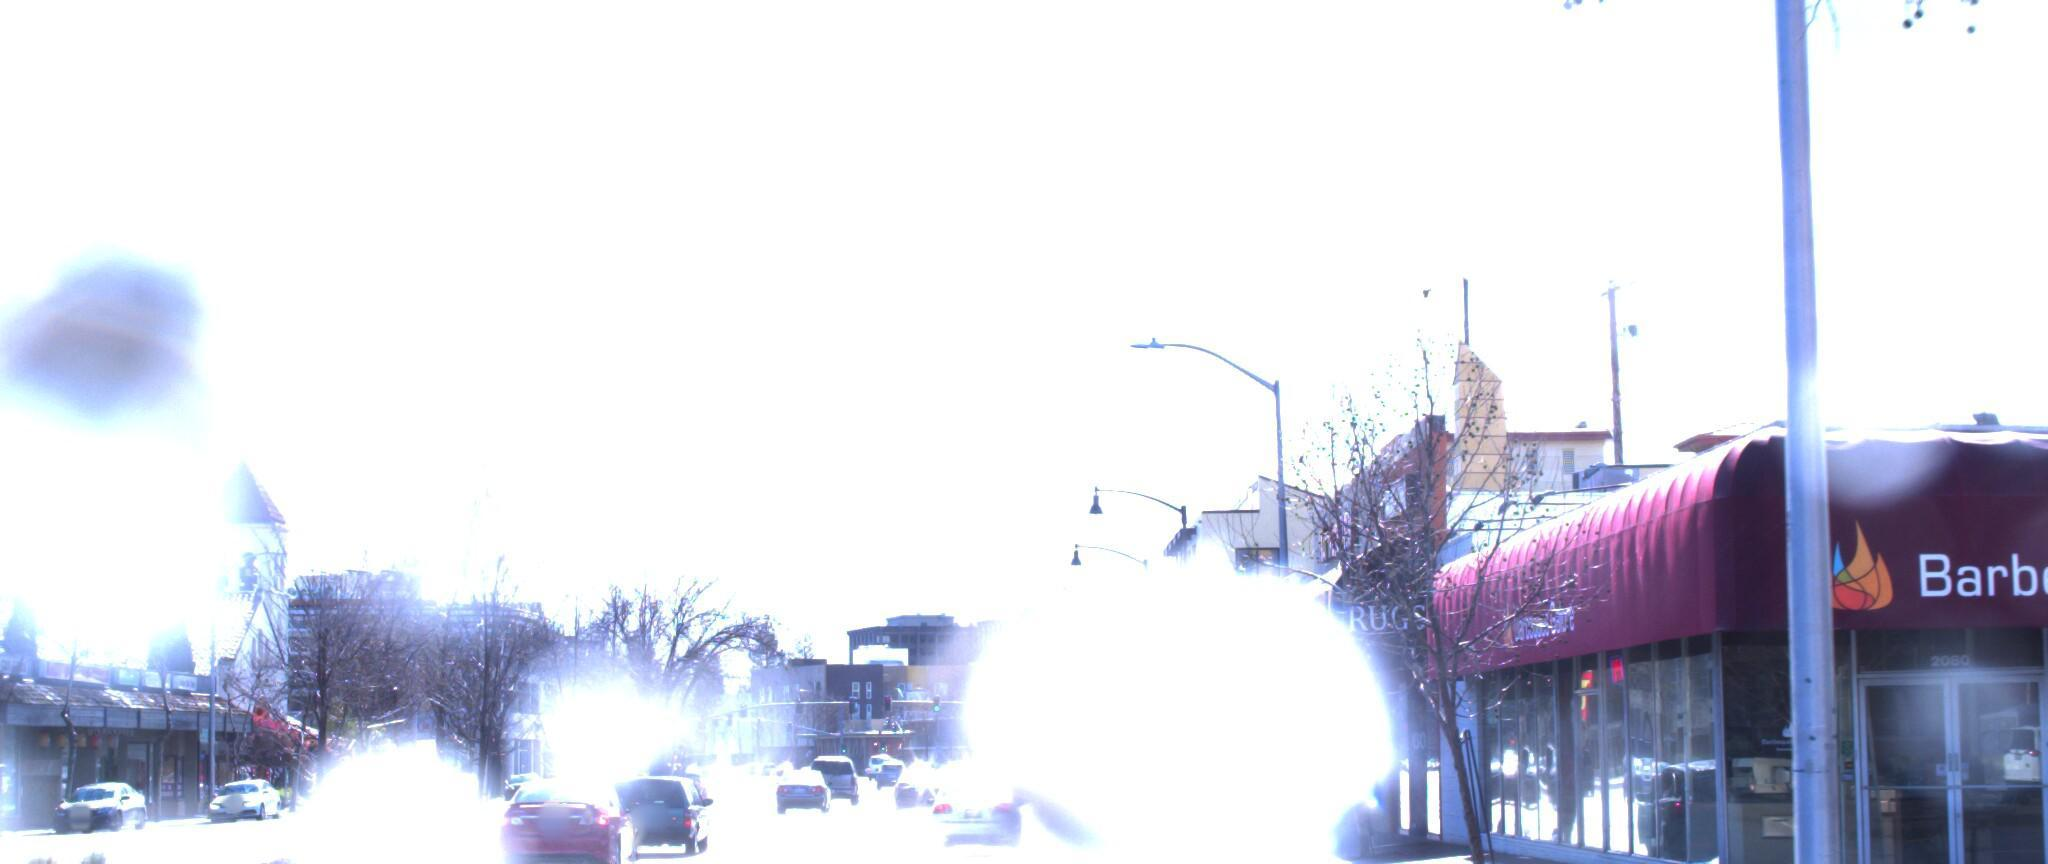car: (1149, 761, 1290, 864), (491, 771, 647, 864), (603, 775, 725, 860), (916, 770, 1027, 857)
